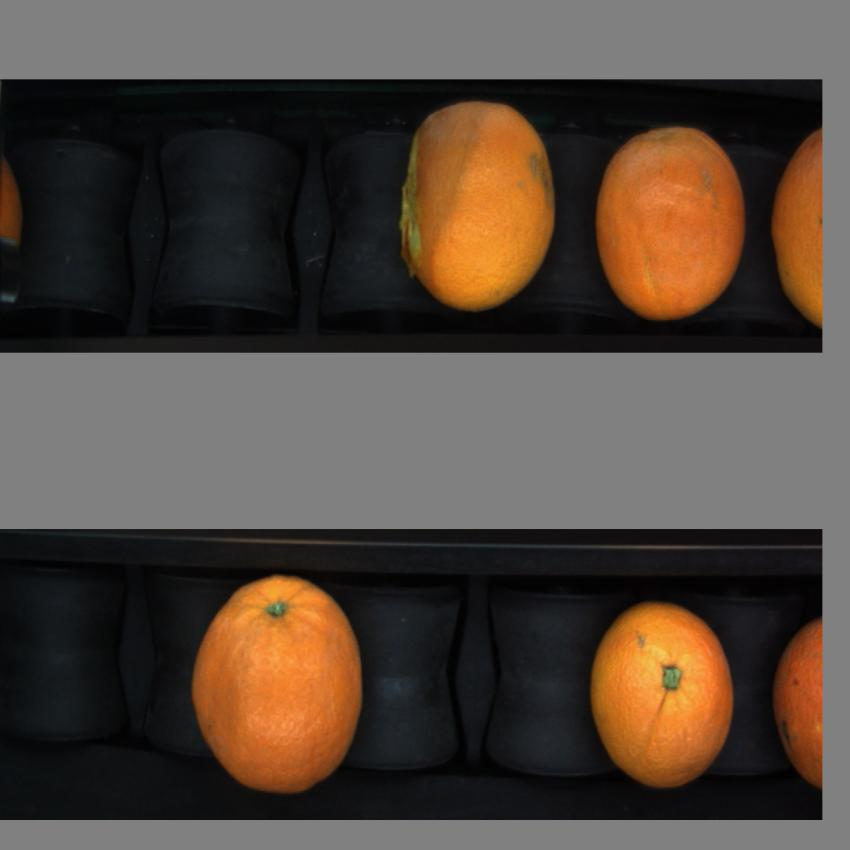Buen estado: (590, 597, 743, 790), (769, 121, 824, 317), (771, 613, 822, 795)
Mal estado: (189, 573, 373, 797), (393, 93, 565, 311), (590, 121, 751, 316)
